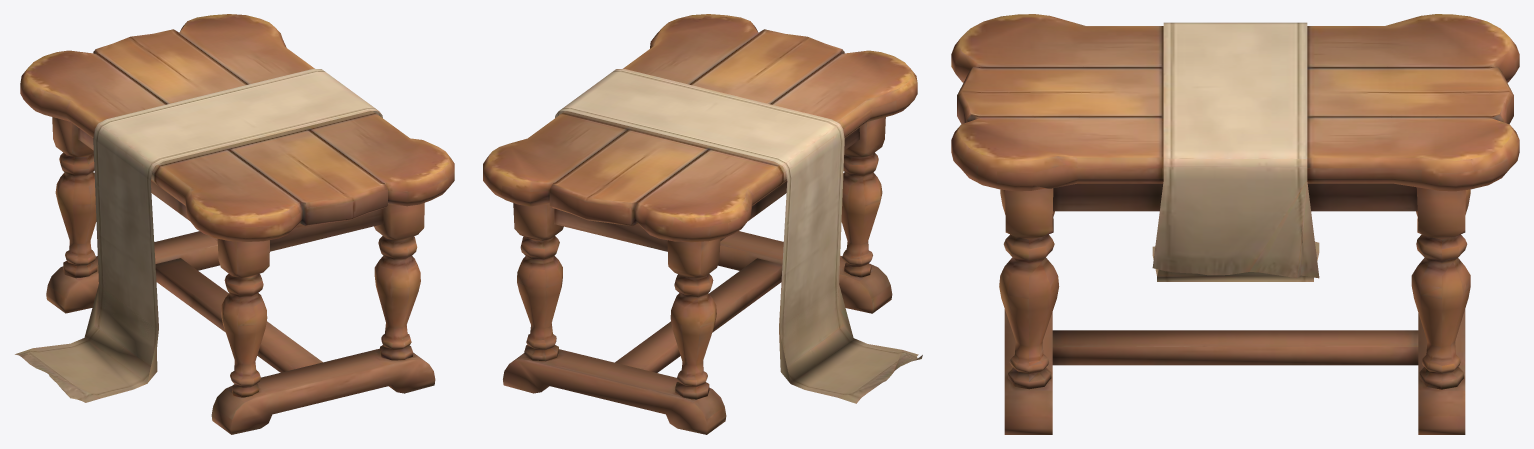
File: wyn_furn_cottage_table.glb
3 views of the same model, side by side, from view 1: azimuth 30°, elevation 25°; view 2: azimuth 150°, elevation 25°; view 3: azimuth 270°, elevation 25° (orthographic). The views are drawn at different scales.
Visible parts, largest first — view 1: tripo_node_bf5cdff7-638d-428d-9b52-f6d8d8512128; view 2: tripo_node_bf5cdff7-638d-428d-9b52-f6d8d8512128; view 3: tripo_node_bf5cdff7-638d-428d-9b52-f6d8d8512128.
Part boxes in pixels (box(x1,y1,x2,y2)): tripo_node_bf5cdff7-638d-428d-9b52-f6d8d8512128: box(15, 14, 454, 434); tripo_node_bf5cdff7-638d-428d-9b52-f6d8d8512128: box(483, 14, 922, 434); tripo_node_bf5cdff7-638d-428d-9b52-f6d8d8512128: box(951, 14, 1519, 434).
Bounding box in the file's own units: 1.26 × 0.85 × 1.53.
1 material, 1 textured.
